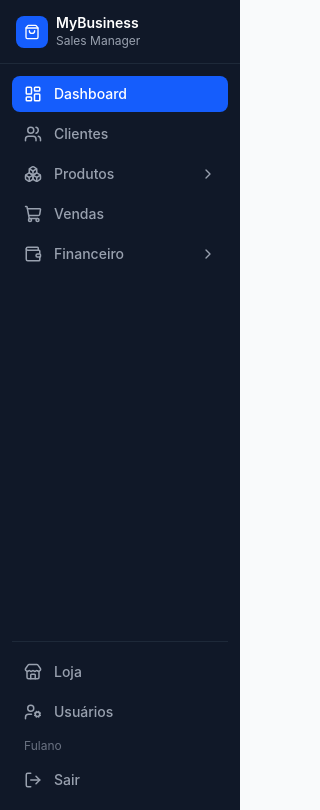
Test case: Sidebar › should expand a nav group to reveal its items when clicked
Expected: the text "Regras Fiscais" is not shown
Click the button "Produtos". click: click(120, 174)
box: [12,156,228,192]
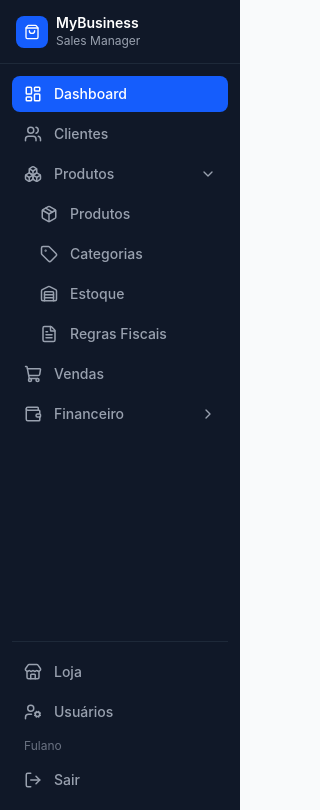
Now the link "Regras Fiscais" is shown, box [40,325,167,343]
